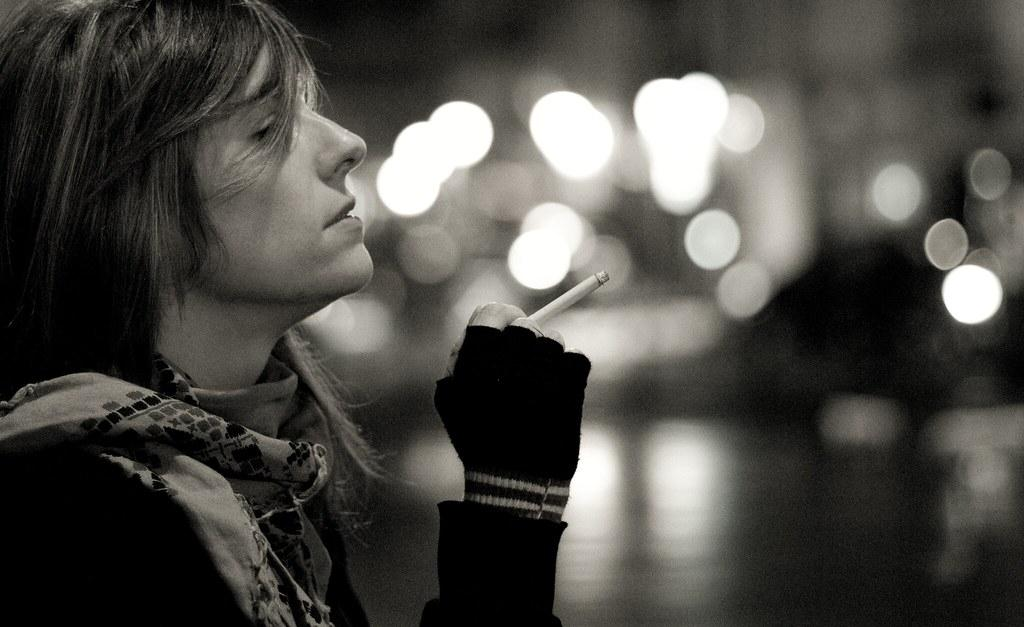cigarette: (518, 271, 614, 331)
